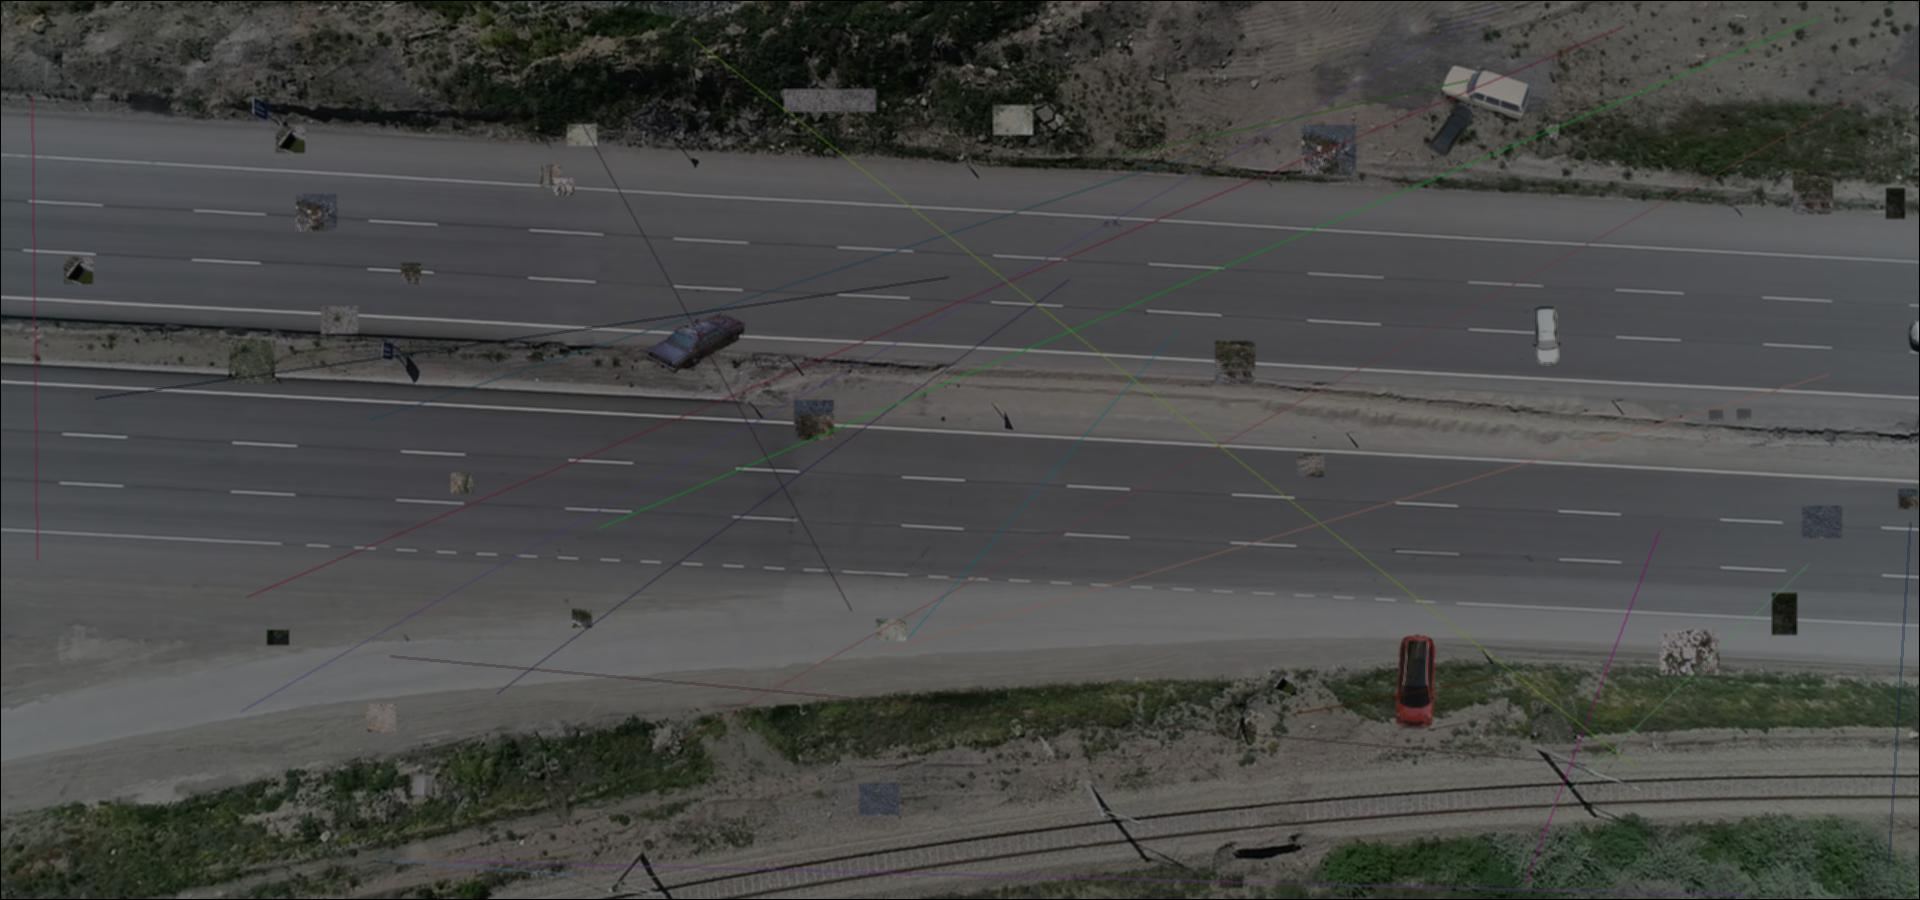arac: (645, 313, 747, 375), (1434, 62, 1532, 125), (1391, 634, 1438, 731), (1425, 104, 1476, 157), (1529, 305, 1562, 366)
